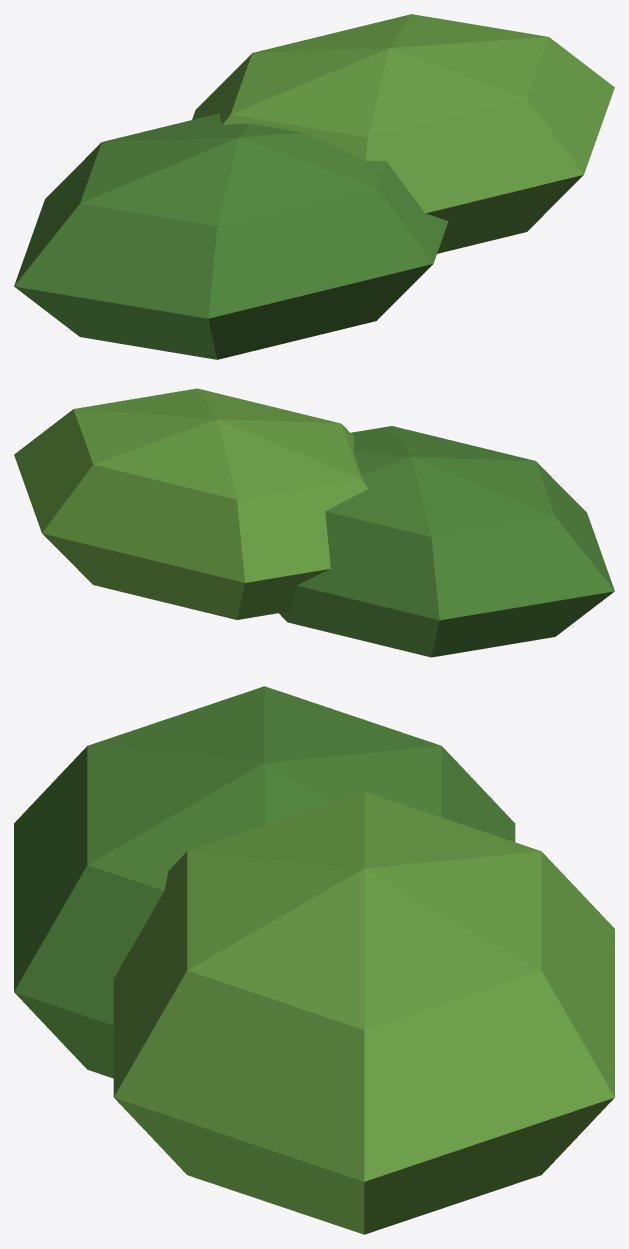
File: bush_scrub_lod1.obj
The picture shows the model from 3 angles, top to bottom: view 1: azimuth 30°, elevation 25°; view 2: azimuth 150°, elevation 25°; view 3: azimuth 270°, elevation 25°; orthographic projection. The views are drawn at different scales.
Visible parts, largest first — view 1: bush_scrub_lod1; view 2: bush_scrub_lod1; view 3: bush_scrub_lod1.
Boxes of the visible parts, box(x1,y1,x2,y2) form: bush_scrub_lod1: box(14, 14, 614, 359); bush_scrub_lod1: box(14, 388, 614, 657); bush_scrub_lod1: box(14, 686, 614, 1234).
Size of the model in its own units: 2.25 by 0.71 by 1.2.
Materials: 1 (1 with a texture image).
